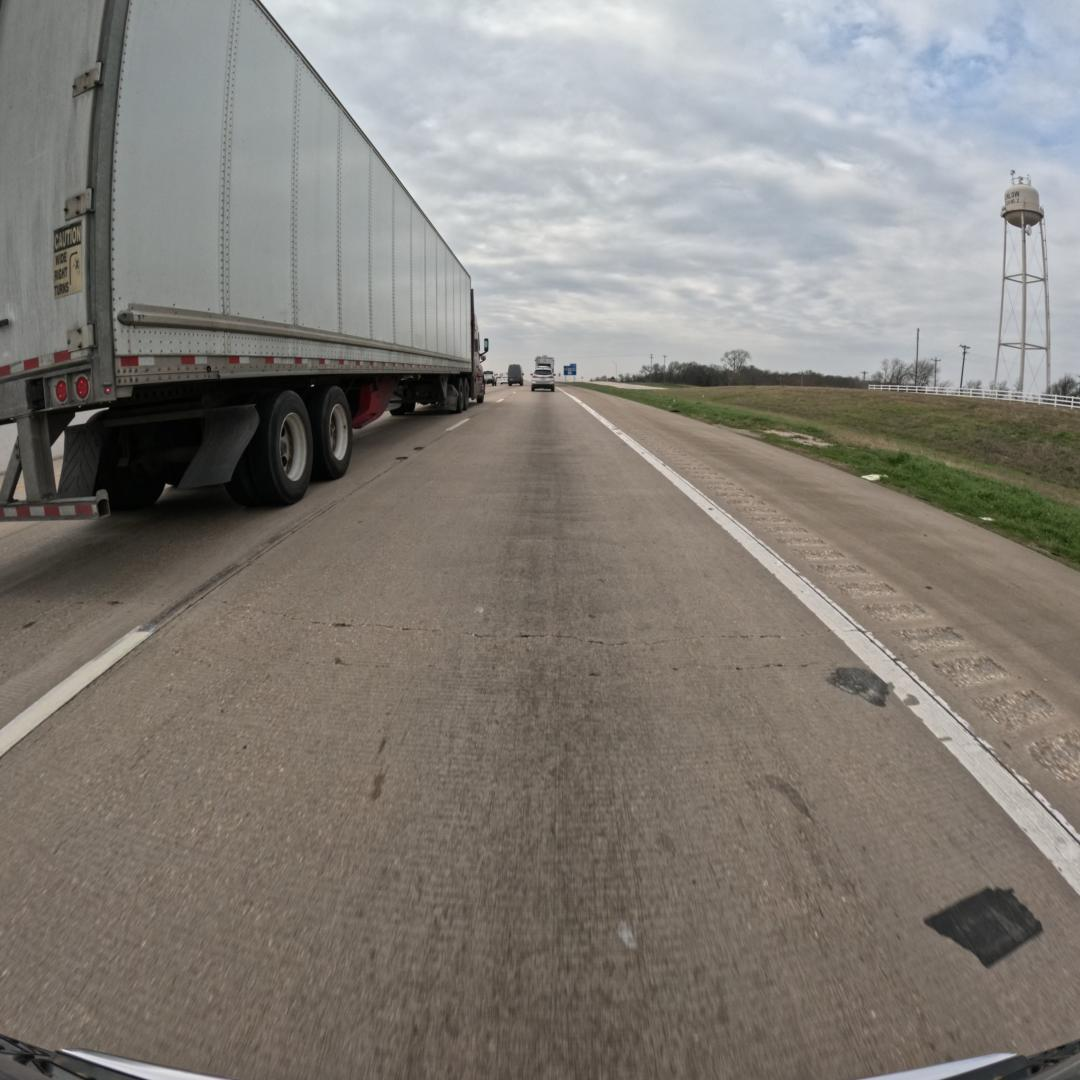lane0: (0, 392, 1080, 1079)
lane1: (0, 385, 519, 755)
